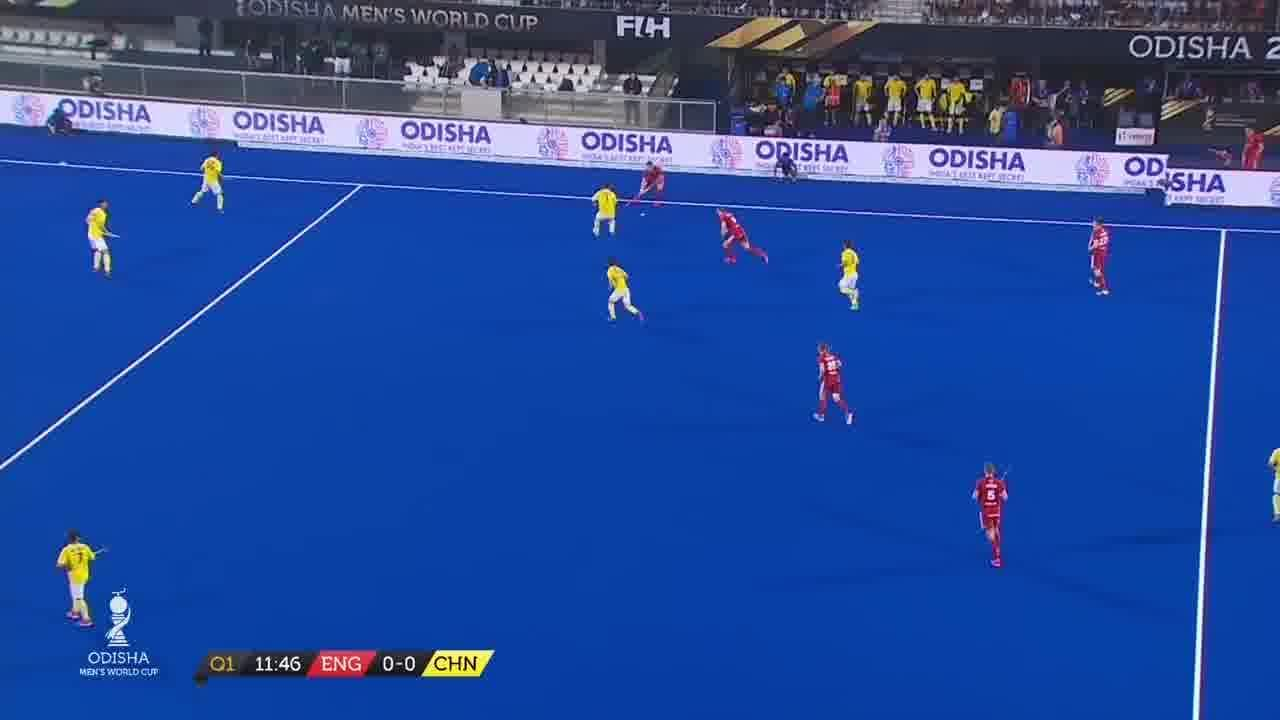ball: (639, 208, 649, 221)
